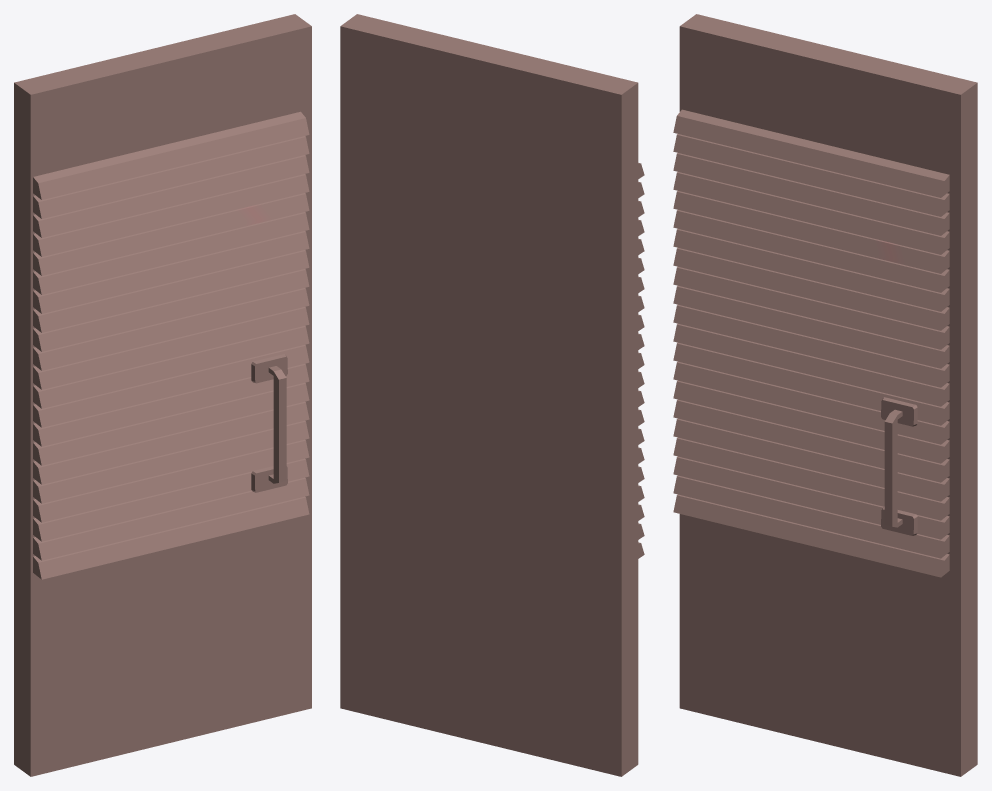
3 views of the same model, side by side, from view 1: azimuth 30°, elevation 25°; view 2: azimuth 150°, elevation 25°; view 3: azimuth 330°, elevation 25° (orthographic).
Parts seen in each view (by area): view 1: SM_H2_D4; view 2: SM_H2_D4; view 3: SM_H2_D4.
Part boxes in pixels (left/top/right/bottom): SM_H2_D4: left=14, top=14, right=311, bottom=776; SM_H2_D4: left=340, top=14, right=644, bottom=776; SM_H2_D4: left=673, top=14, right=977, bottom=776.
Bounding box in the file's own units: 114 × 26.89 × 264.
